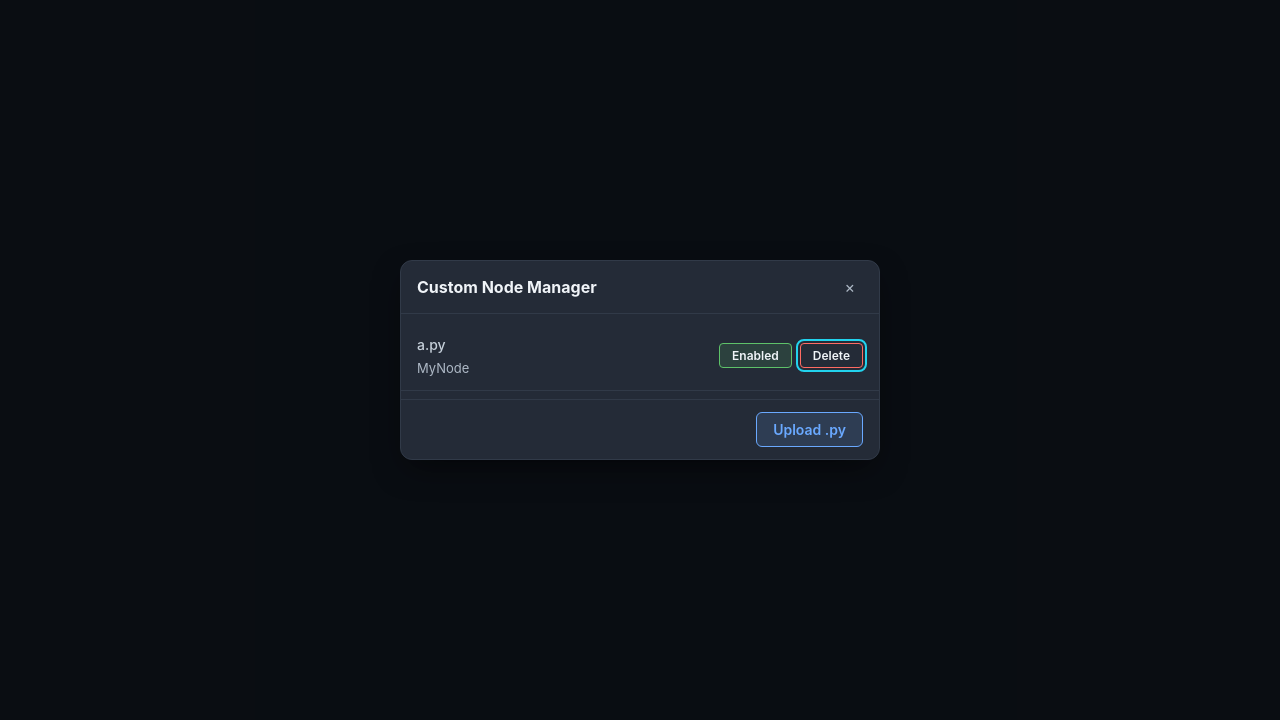
CustomNodeManager focus and re-reads › after deleting the only row, puts focus on Upload .py
expect the text "a.py" is shown: met, box [417,336,446,353]
Click the button "Delete".
click(831, 356)  # box [800,344,863,368]
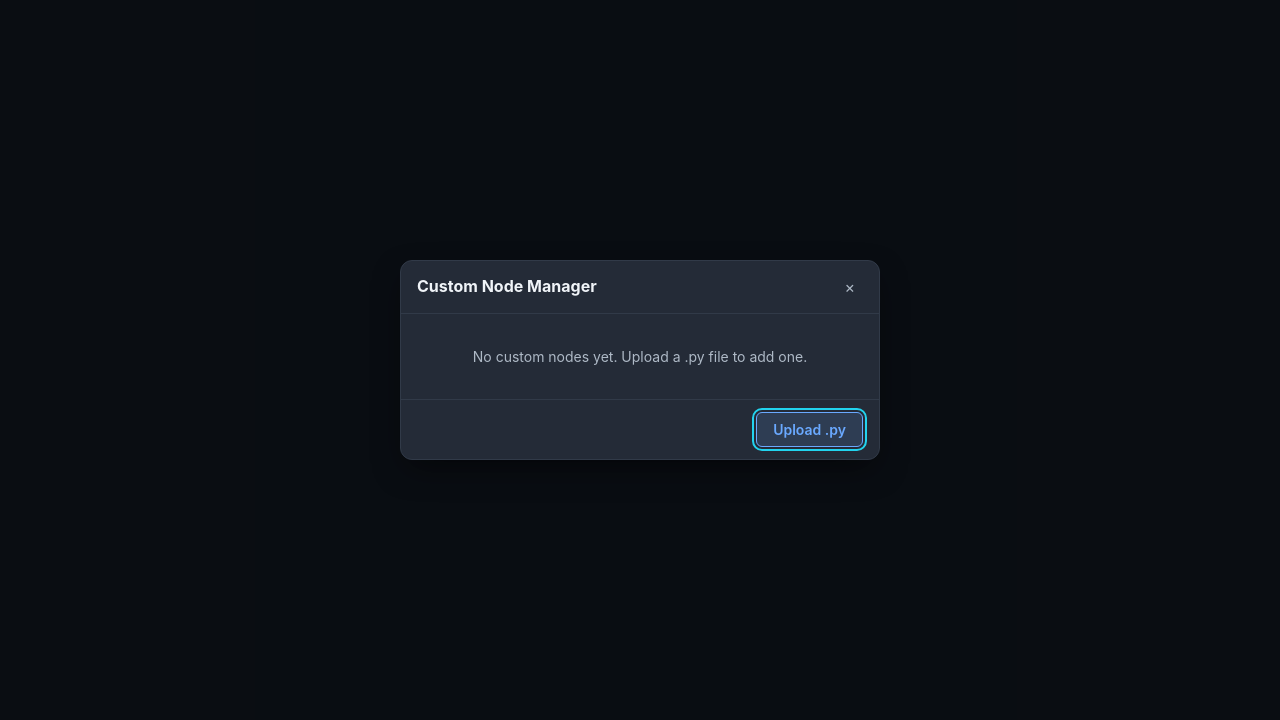
expect the text "No custom nodes yet. Upload a .py file to add one." is shown: met, box [473,348,807,365]
